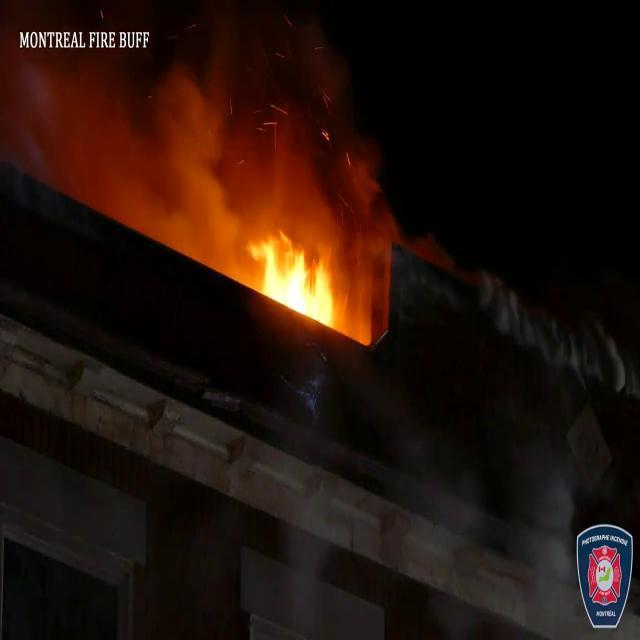Fire: (250, 220, 346, 334)
Smoke: (0, 3, 366, 250)
